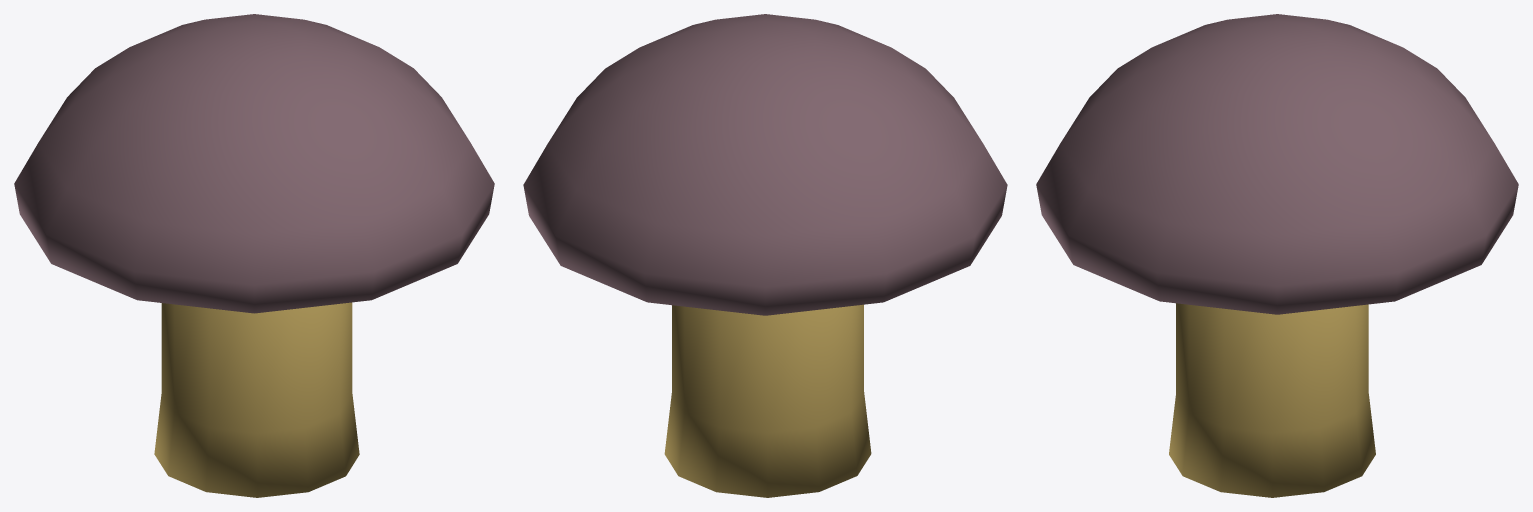
File: ImleriaBadia_little.fbx
3 renders of one model, left to right at view 1: azimuth 30°, elevation 25°; view 2: azimuth 150°, elevation 25°; view 3: azimuth 270°, elevation 25°, orthographic.
Visible parts, largest first — view 1: ImleriaBadia_little; view 2: ImleriaBadia_little; view 3: ImleriaBadia_little.
Part boxes in pixels (x1=…): ImleriaBadia_little: x1=14, y1=14, x2=494, y2=497; ImleriaBadia_little: x1=523, y1=14, x2=1007, y2=497; ImleriaBadia_little: x1=1036, y1=14, x2=1518, y2=497.
Bounding box in the file's own units: 19.99 × 19.03 × 19.99.
